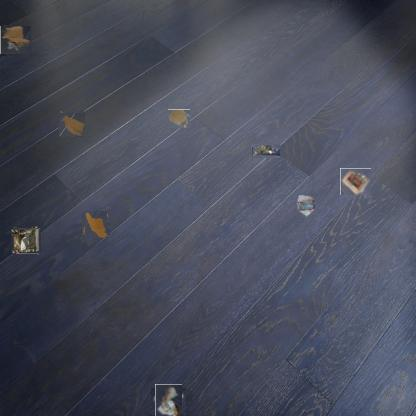dirty: (153, 385, 183, 416), (1, 26, 30, 55), (340, 168, 371, 195), (12, 226, 40, 254), (60, 112, 84, 136), (296, 194, 318, 218), (252, 144, 280, 158)
liquid: (84, 212, 109, 236), (168, 109, 190, 128)
